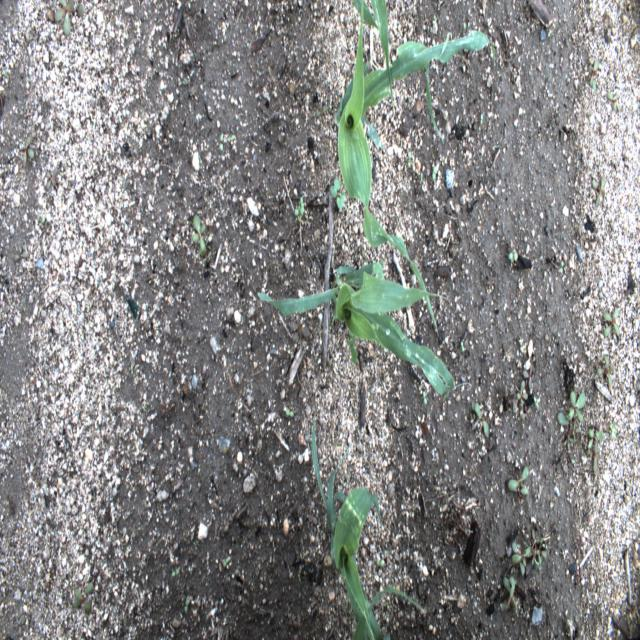crop: (334, 0, 495, 338), (257, 261, 470, 399), (311, 415, 425, 639), (350, 0, 395, 119)
weed: (557, 392, 586, 450), (512, 528, 546, 576), (54, 0, 85, 36), (508, 466, 530, 498), (72, 582, 94, 613), (191, 214, 206, 256), (582, 440, 601, 473), (500, 576, 517, 612), (597, 353, 614, 388), (602, 306, 620, 338), (472, 402, 488, 437), (290, 314, 308, 342), (330, 179, 346, 209), (18, 135, 34, 164), (592, 175, 605, 207), (13, 243, 30, 266), (588, 60, 599, 94), (198, 238, 212, 262), (606, 90, 621, 112), (588, 427, 603, 449), (46, 166, 58, 191), (294, 196, 304, 224), (314, 102, 328, 121), (523, 365, 533, 389), (517, 380, 528, 400), (508, 247, 518, 266), (404, 150, 413, 168), (576, 226, 584, 246), (518, 398, 524, 420), (522, 406, 531, 419), (610, 424, 618, 438), (284, 408, 295, 418), (37, 214, 46, 226), (361, 250, 368, 263), (184, 598, 189, 614), (376, 559, 384, 569), (432, 165, 437, 181), (172, 568, 180, 577), (227, 134, 235, 142), (223, 558, 230, 567), (423, 390, 427, 405), (130, 364, 134, 377), (534, 395, 538, 408), (560, 261, 564, 274), (220, 134, 222, 150)
